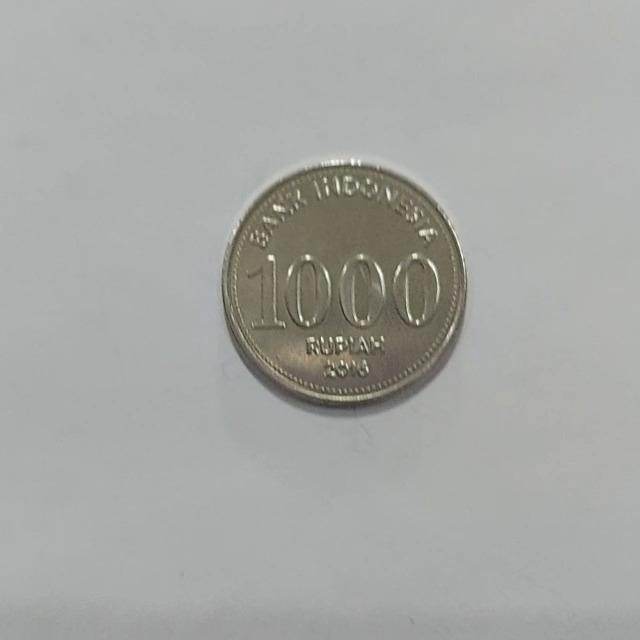Rp100: (219, 156, 468, 408)
